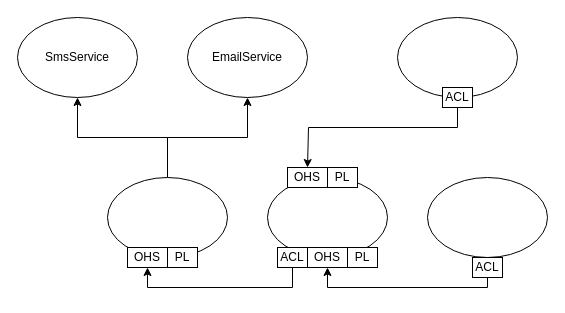
This 565x313 diagram has some shape labels left out. Here are the shapes that lost their labels. From the top down, the box of each, then its label:
(396, 16, 518, 98): FrontEnd Game Renderer
(106, 176, 228, 258): Account Management
(266, 176, 388, 258): Game Engine
(426, 176, 548, 258): Game Event Connector
